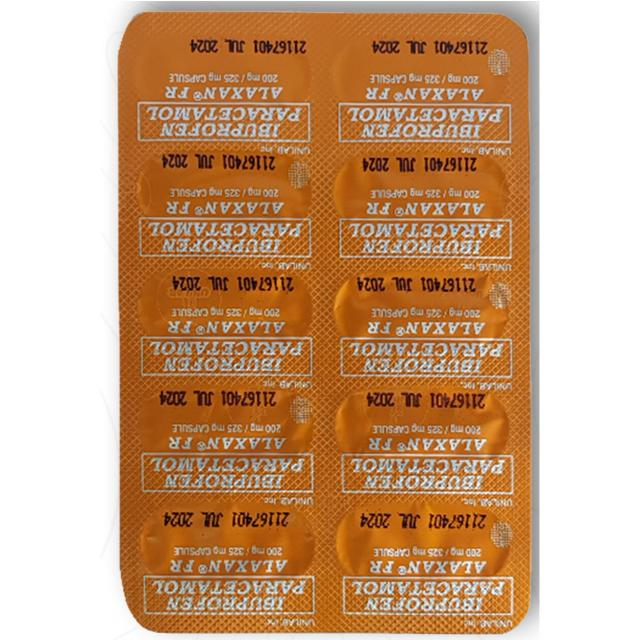blister: (112, 9, 534, 637)
